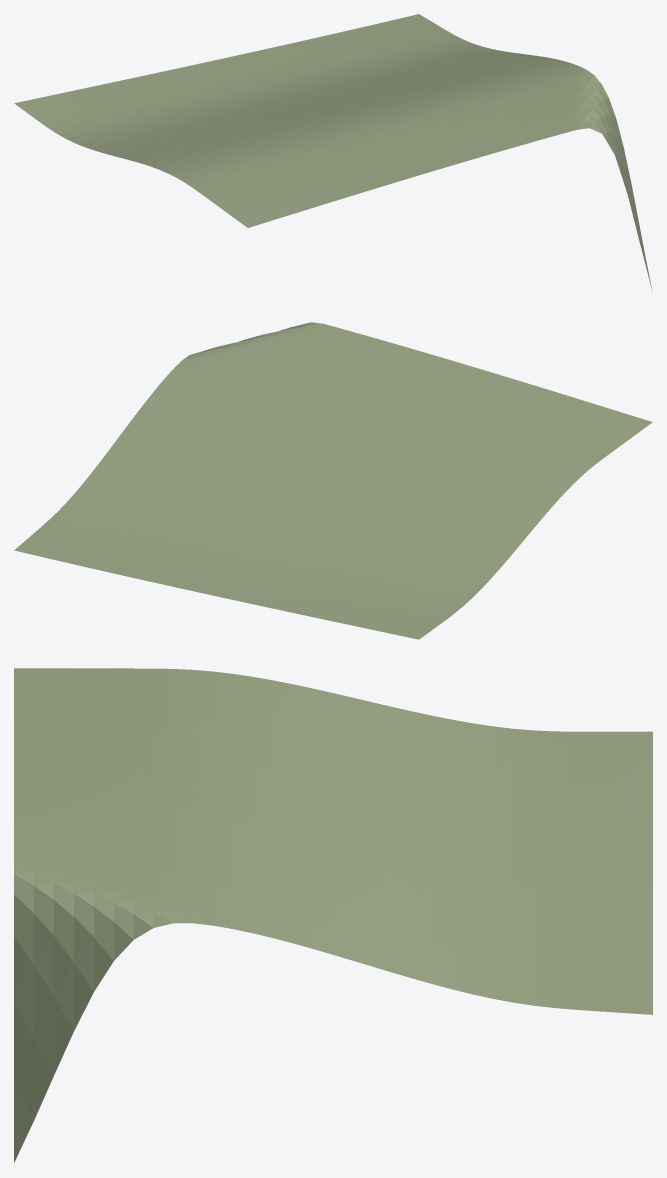
File: canyon-0-4.glb
The picture shows the model from 3 angles, top to bottom: view 1: azimuth 30°, elevation 25°; view 2: azimuth 150°, elevation 25°; view 3: azimuth 270°, elevation 25°; orthographic projection. The views are drawn at different scales.
Parts seen in each view (by area): view 1: canyon-0-4; view 2: canyon-0-4; view 3: canyon-0-4.
Part boxes in pixels (<box>): canyon-0-4: <box>14,14,652,291</box>; canyon-0-4: <box>14,322,652,639</box>; canyon-0-4: <box>14,668,652,1162</box>.
Bounding box in the file's own units: 128 × 55.15 × 128.
